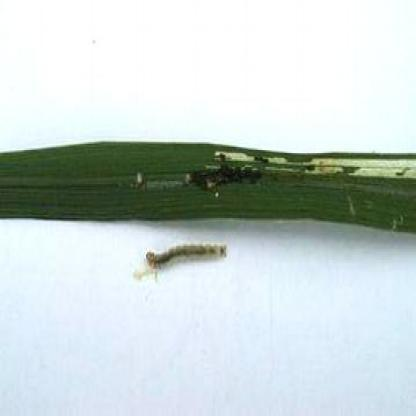leaf-folder: (135, 233, 231, 292)
